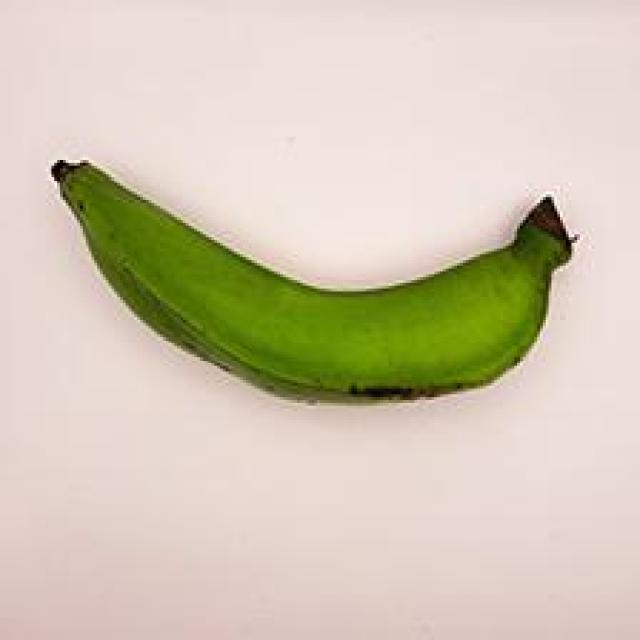Raw: (44, 90, 603, 453)
